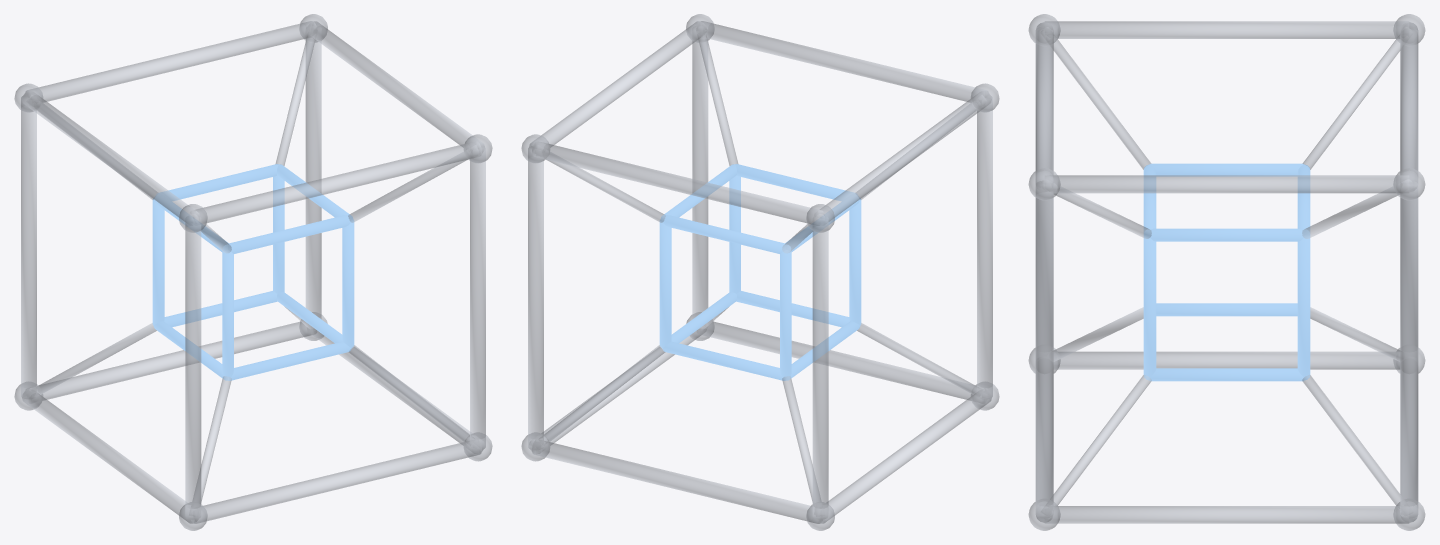
The model's file is vorchex.glb.
The picture shows the model from 3 angles, left to right: view 1: azimuth 30°, elevation 25°; view 2: azimuth 150°, elevation 25°; view 3: azimuth 270°, elevation 25°; orthographic projection. The views are drawn at different scales.
Visible parts, largest first — view 1: ext0, ext4, ext2, ext8, ext7, ext5, ext11, ext6, ext3, ext1, ext10, ext9 (+25 smaller); view 2: ext5, ext7, ext6, ext11, ext4, ext0, ext8, ext2, ext3, ext1, ext10, ext9 (+25 smaller); view 3: ext10, ext9, ext3, ext8, ext11, ext1, ext0, ext5, ext4, ext7, ext2, ext6 (+22 smaller).
Part boxes in pixels (left/top/right/bottom): ext0: left=185, top=216, right=201, bottom=519; ext4: left=190, top=141, right=481, bottom=225; ext2: left=191, top=440, right=481, bottom=523; ext8: left=470, top=146, right=485, bottom=449; ext7: left=25, top=21, right=317, bottom=102; ext5: left=21, top=96, right=36, bottom=398; ext11: left=305, top=27, right=321, bottom=327; ext6: left=26, top=321, right=316, bottom=400; ext3: left=22, top=91, right=199, bottom=225; ext1: left=22, top=389, right=198, bottom=523; ext10: left=307, top=21, right=484, bottom=152; ext9: left=307, top=328, right=484, bottom=453; ext5: left=812, top=216, right=828, bottom=519; ext7: left=532, top=141, right=823, bottom=225; ext6: left=532, top=440, right=822, bottom=523; ext11: left=528, top=146, right=543, bottom=449; ext4: left=696, top=21, right=988, bottom=102; ext0: left=977, top=96, right=992, bottom=398; ext8: left=692, top=27, right=708, bottom=327; ext2: left=697, top=321, right=987, bottom=400; ext3: left=814, top=91, right=991, bottom=225; ext1: left=815, top=389, right=991, bottom=523; ext10: left=529, top=21, right=706, bottom=152; ext9: left=529, top=328, right=706, bottom=453; ext10: left=1045, top=175, right=1408, bottom=193; ext9: left=1045, top=506, right=1408, bottom=523; ext3: left=1045, top=21, right=1408, bottom=38; ext8: left=1035, top=181, right=1053, bottom=518; ext11: left=1400, top=181, right=1418, bottom=518; ext1: left=1053, top=351, right=1400, bottom=369; ext0: left=1036, top=44, right=1053, bottom=347; ext5: left=1400, top=44, right=1417, bottom=347; ext4: left=1035, top=22, right=1053, bottom=191; ext7: left=1400, top=22, right=1418, bottom=191; ext2: left=1036, top=367, right=1053, bottom=522; ext6: left=1400, top=367, right=1417, bottom=522.
Size of the model in its own units: 0.98 by 0.98 by 0.98.
